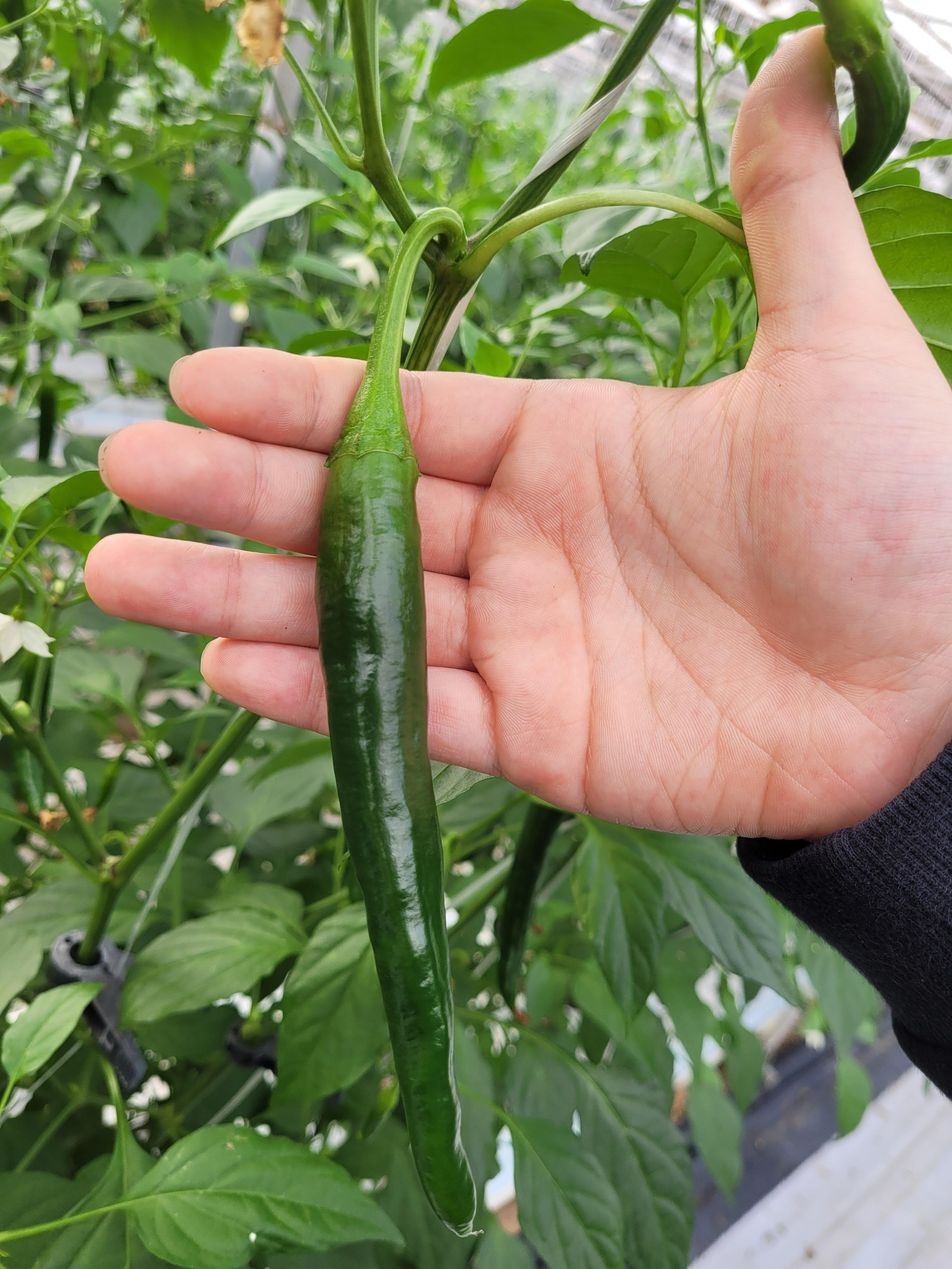Buah Cabai Sehat: (312, 368, 486, 1239)
